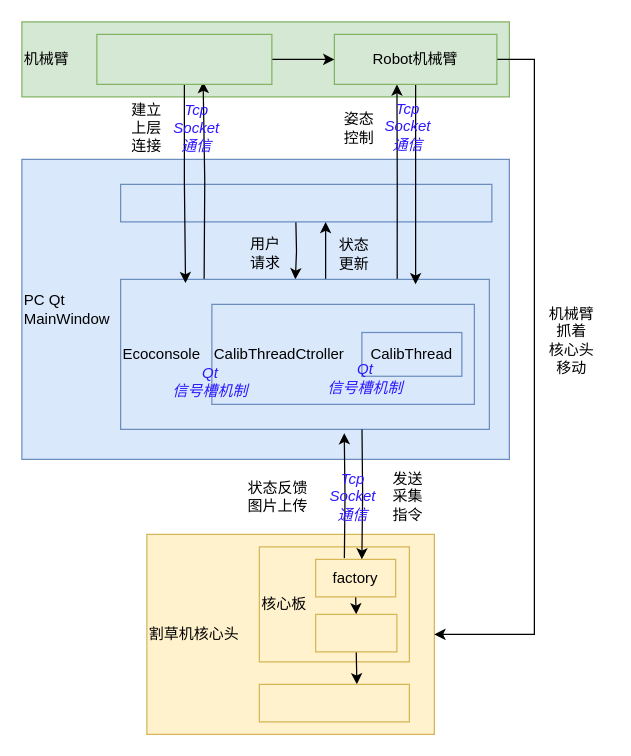
Some shapes in this 631 by 756 pixel diagram are drawn without their labels. The shapes that lost their labels are listed below. From the top down, each one's centre as x and y in pixels, then its label:
At [184,58]: "机械臂PLC".
At [305,202]: "UI".
At [355,632]: "medusa".
At [333,702]: "传感器".
